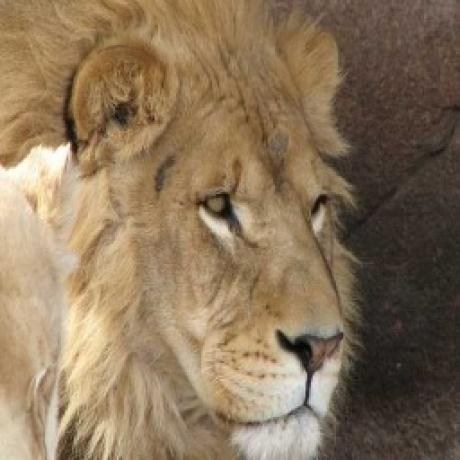Lion: (0, 0, 369, 460)
